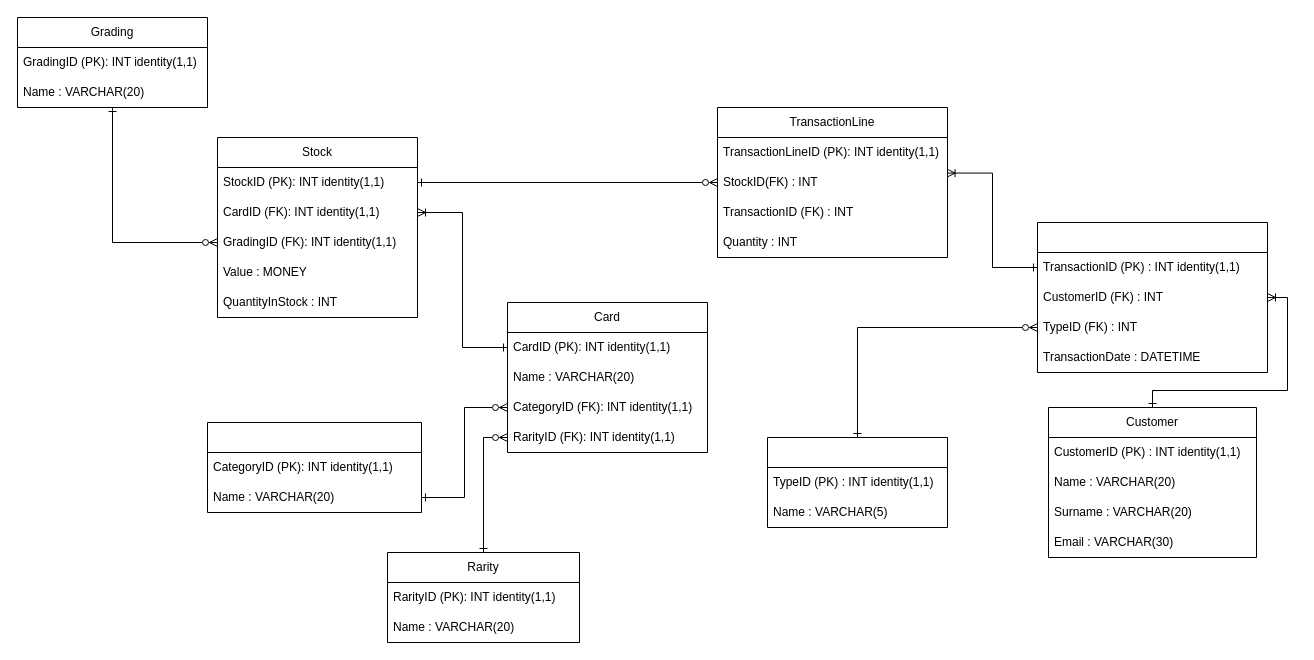
The diagram is 1314 pixels wide and 660 high, and some of its shapes have lost their labels. The shapes that lost their labels are listed below. From the top down, each one's box as (x1, y1, x2, y2) in pixels, then its label:
(1036, 222, 1268, 372): CardTransaction
(206, 422, 422, 512): CardCategory
(766, 436, 948, 528): TransactionType
